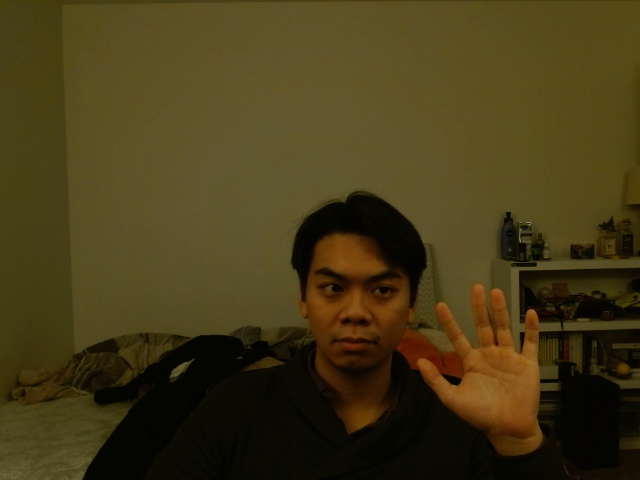Hello: (413, 282, 551, 438)
